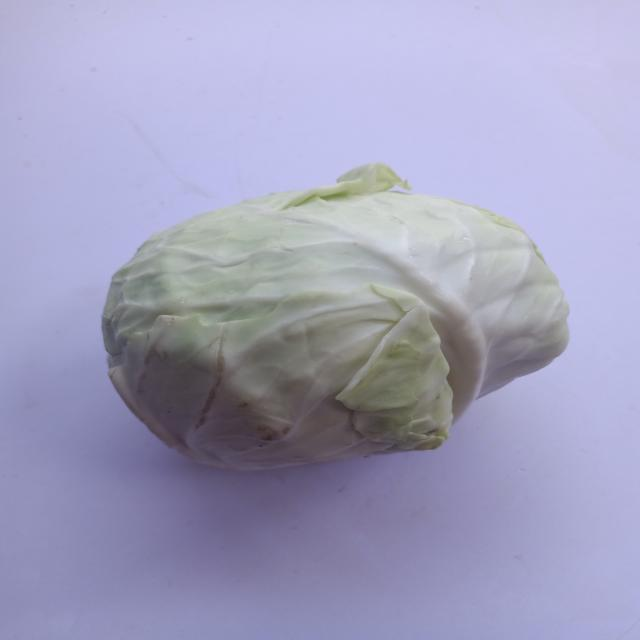Cabbage: (86, 149, 594, 477)
